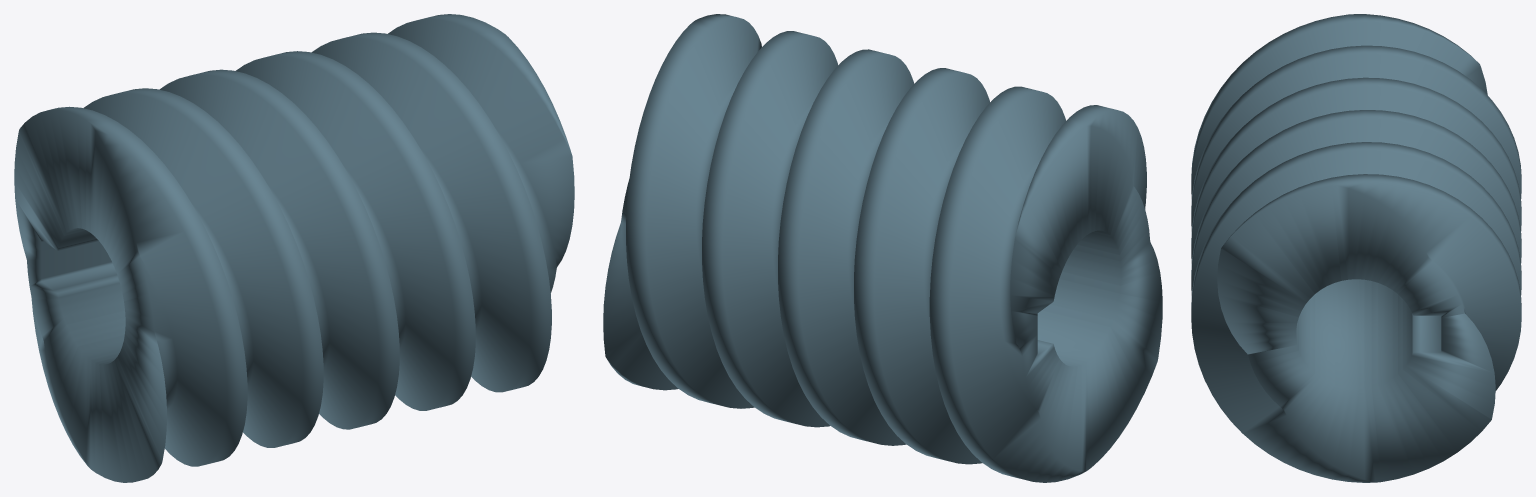
3 renders of one model, left to right at view 1: azimuth 30°, elevation 25°; view 2: azimuth 150°, elevation 25°; view 3: azimuth 270°, elevation 25°, orthographic. The views are drawn at different scales.
Visible parts, largest first — view 1: Worm Gear; view 2: Worm Gear; view 3: Worm Gear.
Boxes of the visible parts, left/top/right/bottom form: Worm Gear: left=14, top=14, right=574, bottom=482; Worm Gear: left=603, top=14, right=1162, bottom=482; Worm Gear: left=1191, top=14, right=1521, bottom=482.
Bounding box in the file's own units: 5 × 4.09 × 4.1.
